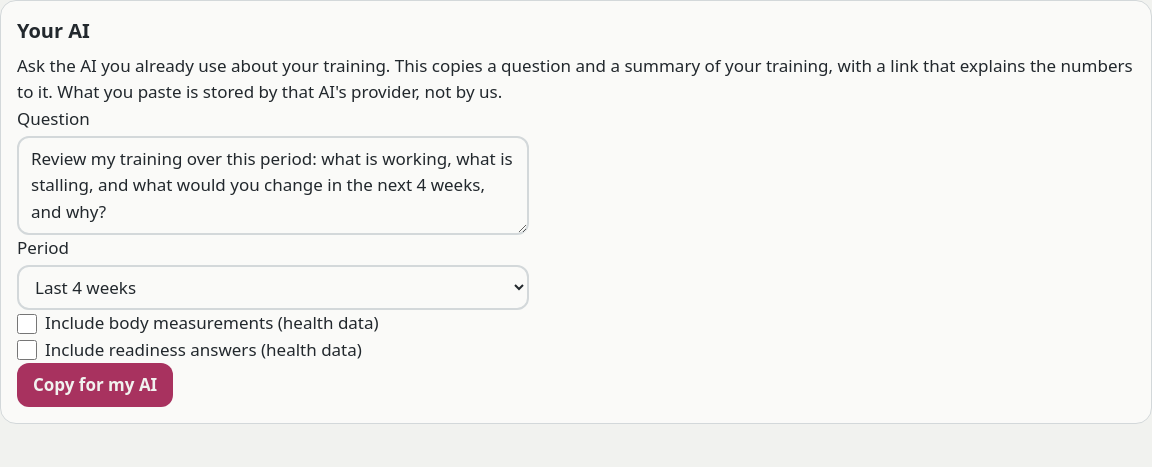
Test: copies the question and the summary, without health data by default
What coordinates should you click on to do the following:
click the button "Copy for my AI"
I would click on:
 (95, 385)
Its box is [17,363,173,407].
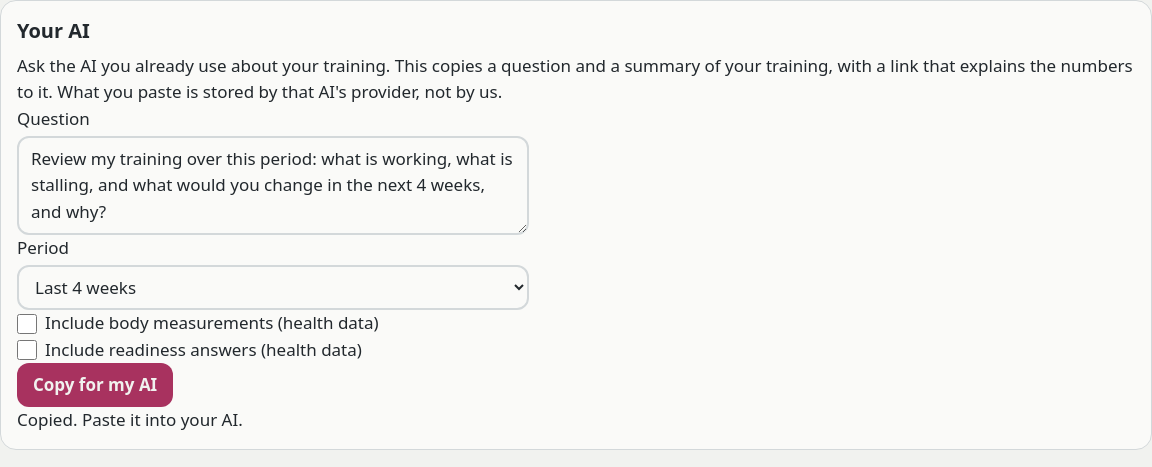
Check: the text "Copied. Paste it into your AI." is shown, box [17,408,243,431]
